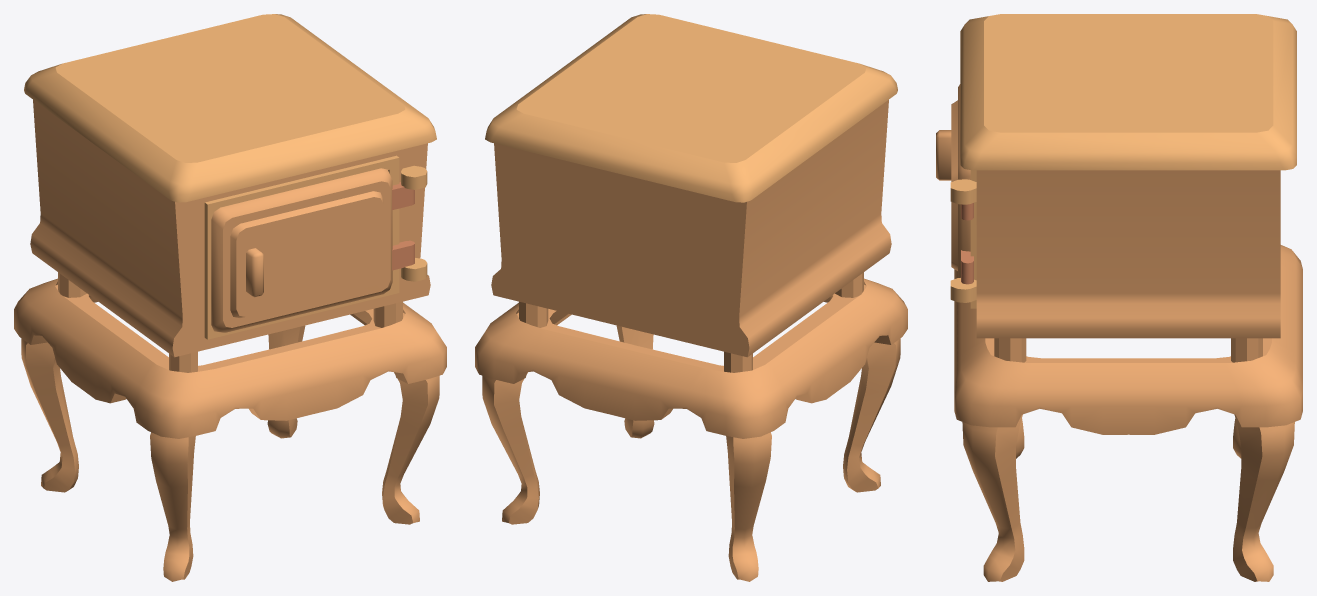
File: stove.fbx
The picture shows the model from 3 angles, left to right: view 1: azimuth 30°, elevation 25°; view 2: azimuth 150°, elevation 25°; view 3: azimuth 270°, elevation 25°; orthographic projection. The views are drawn at different scales.
Visible parts, largest first — view 1: stove; view 2: stove; view 3: stove.
Part boxes in pixels (x1=…): stove: x1=14, y1=14, x2=446, y2=581; stove: x1=475, y1=14, x2=907, y2=581; stove: x1=936, y1=14, x2=1302, y2=581.
Size of the model in its own units: 6.55 by 8.88 by 6.63.
